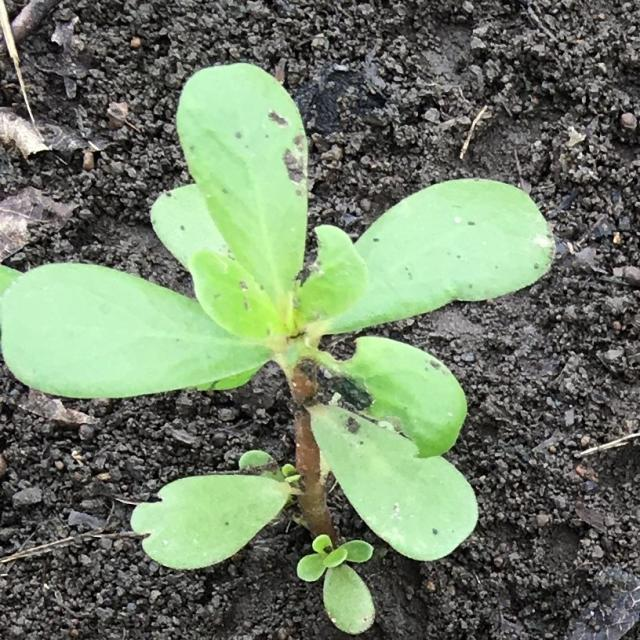Purslane: (1, 63, 557, 634)
